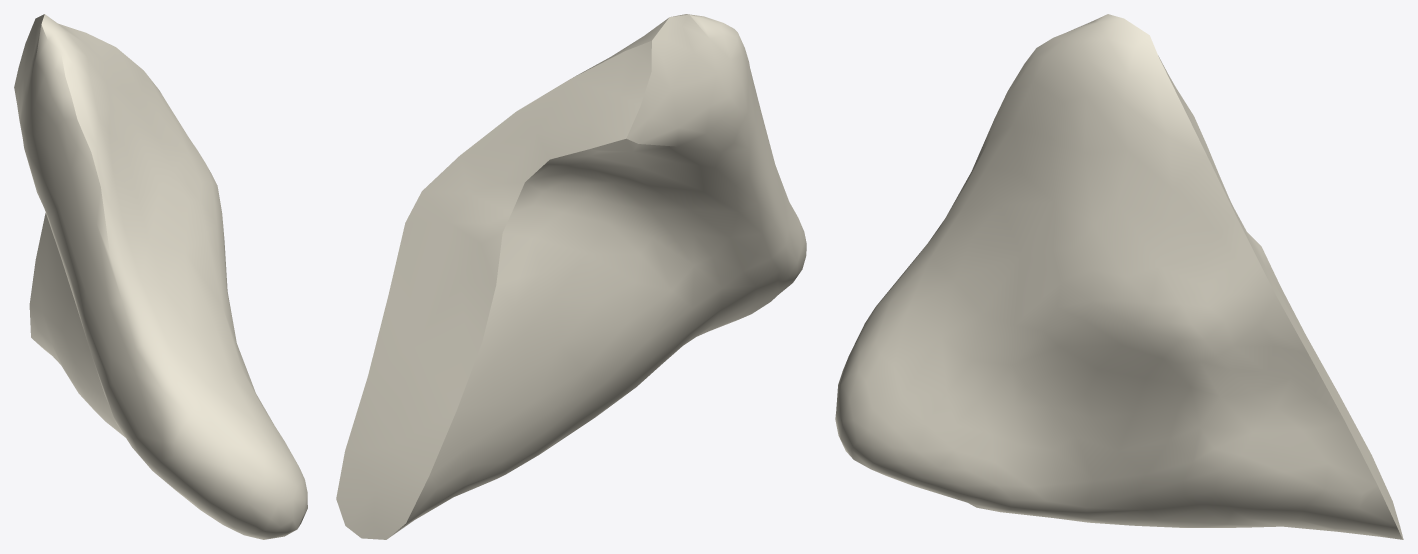
The model's file is fma57597_mm2164m.glb.
3 views of the same model, side by side, from view 1: azimuth 30°, elevation 25°; view 2: azimuth 150°, elevation 25°; view 3: azimuth 270°, elevation 25° (orthographic). The views are drawn at different scales.
Visible parts, largest first — view 1: FMA57597_MM2164M; view 2: FMA57597_MM2164M; view 3: FMA57597_MM2164M.
Part boxes in pixels (box(x1,y1,x2,y2)): FMA57597_MM2164M: box(14, 14, 307, 539); FMA57597_MM2164M: box(336, 14, 806, 539); FMA57597_MM2164M: box(835, 14, 1403, 539).
Size of the model in its own units: 0.00558 by 0.01 by 0.0116.
